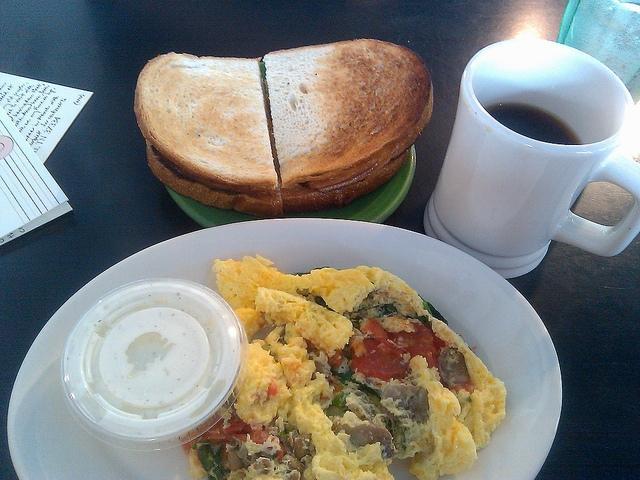bell pepper: (330, 368, 381, 403), (190, 440, 227, 480), (418, 294, 448, 326), (330, 390, 346, 408)
tomato: (349, 318, 445, 383), (182, 410, 270, 462)
